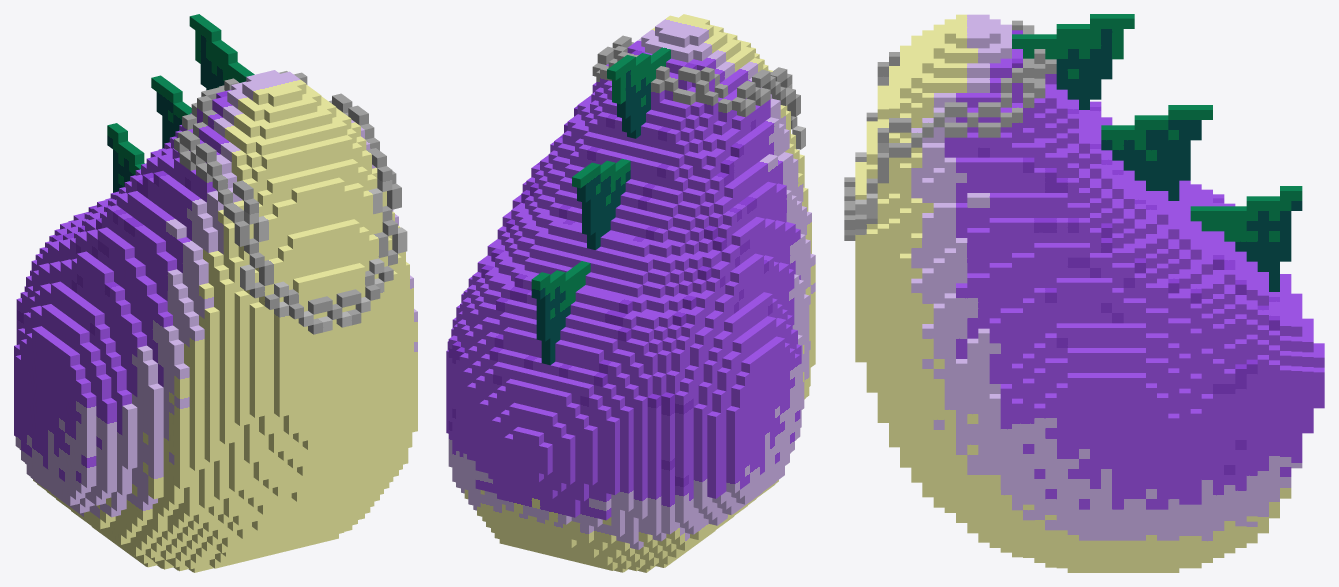
Rendered from silver hooped chain.gltf.
The picture shows the model from 3 angles, left to right: view 1: azimuth 30°, elevation 25°; view 2: azimuth 150°, elevation 25°; view 3: azimuth 270°, elevation 25°; orthographic projection. The views are drawn at different scales.
Visible parts, largest first — view 1: 02_Body_SilverChain-Mesh; view 2: 02_Body_SilverChain-Mesh; view 3: 02_Body_SilverChain-Mesh.
Part boxes in pixels (bbox=[...]): 02_Body_SilverChain-Mesh: bbox=[14, 14, 417, 572]; 02_Body_SilverChain-Mesh: bbox=[446, 14, 815, 572]; 02_Body_SilverChain-Mesh: bbox=[844, 14, 1324, 572].
Bounding box in the file's own units: 33 × 51 × 43.
1 material, 1 textured.
